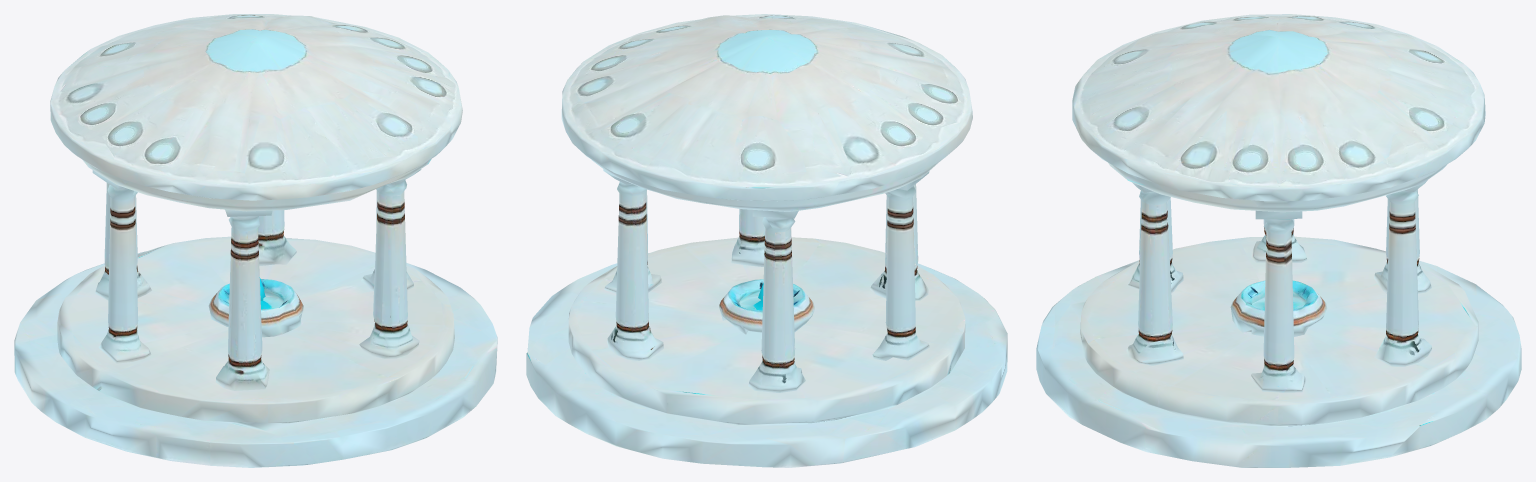
File: temple_ice.glb
3 views of the same model, side by side, from view 1: azimuth 30°, elevation 25°; view 2: azimuth 150°, elevation 25°; view 3: azimuth 270°, elevation 25° (orthographic).
Size of the model in its own units: 2 by 1.5 by 2.
1 material, 1 textured.
